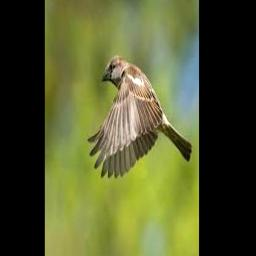Sparrow: (88, 55, 192, 177)
